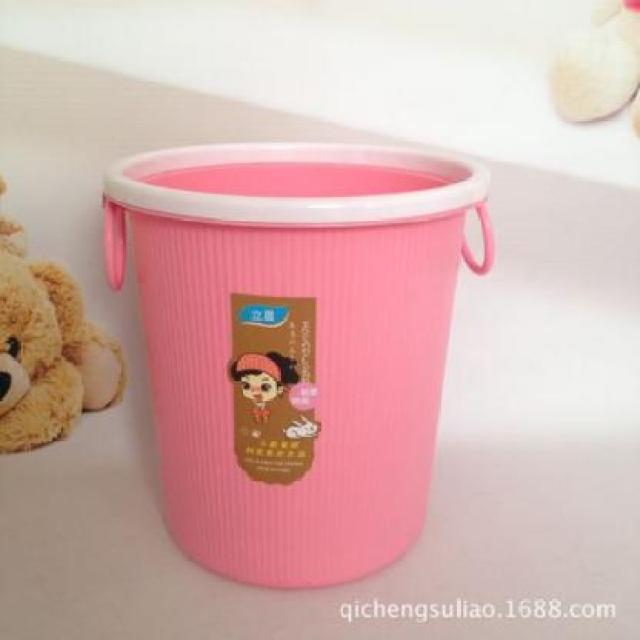dustbin: (97, 135, 500, 594)
